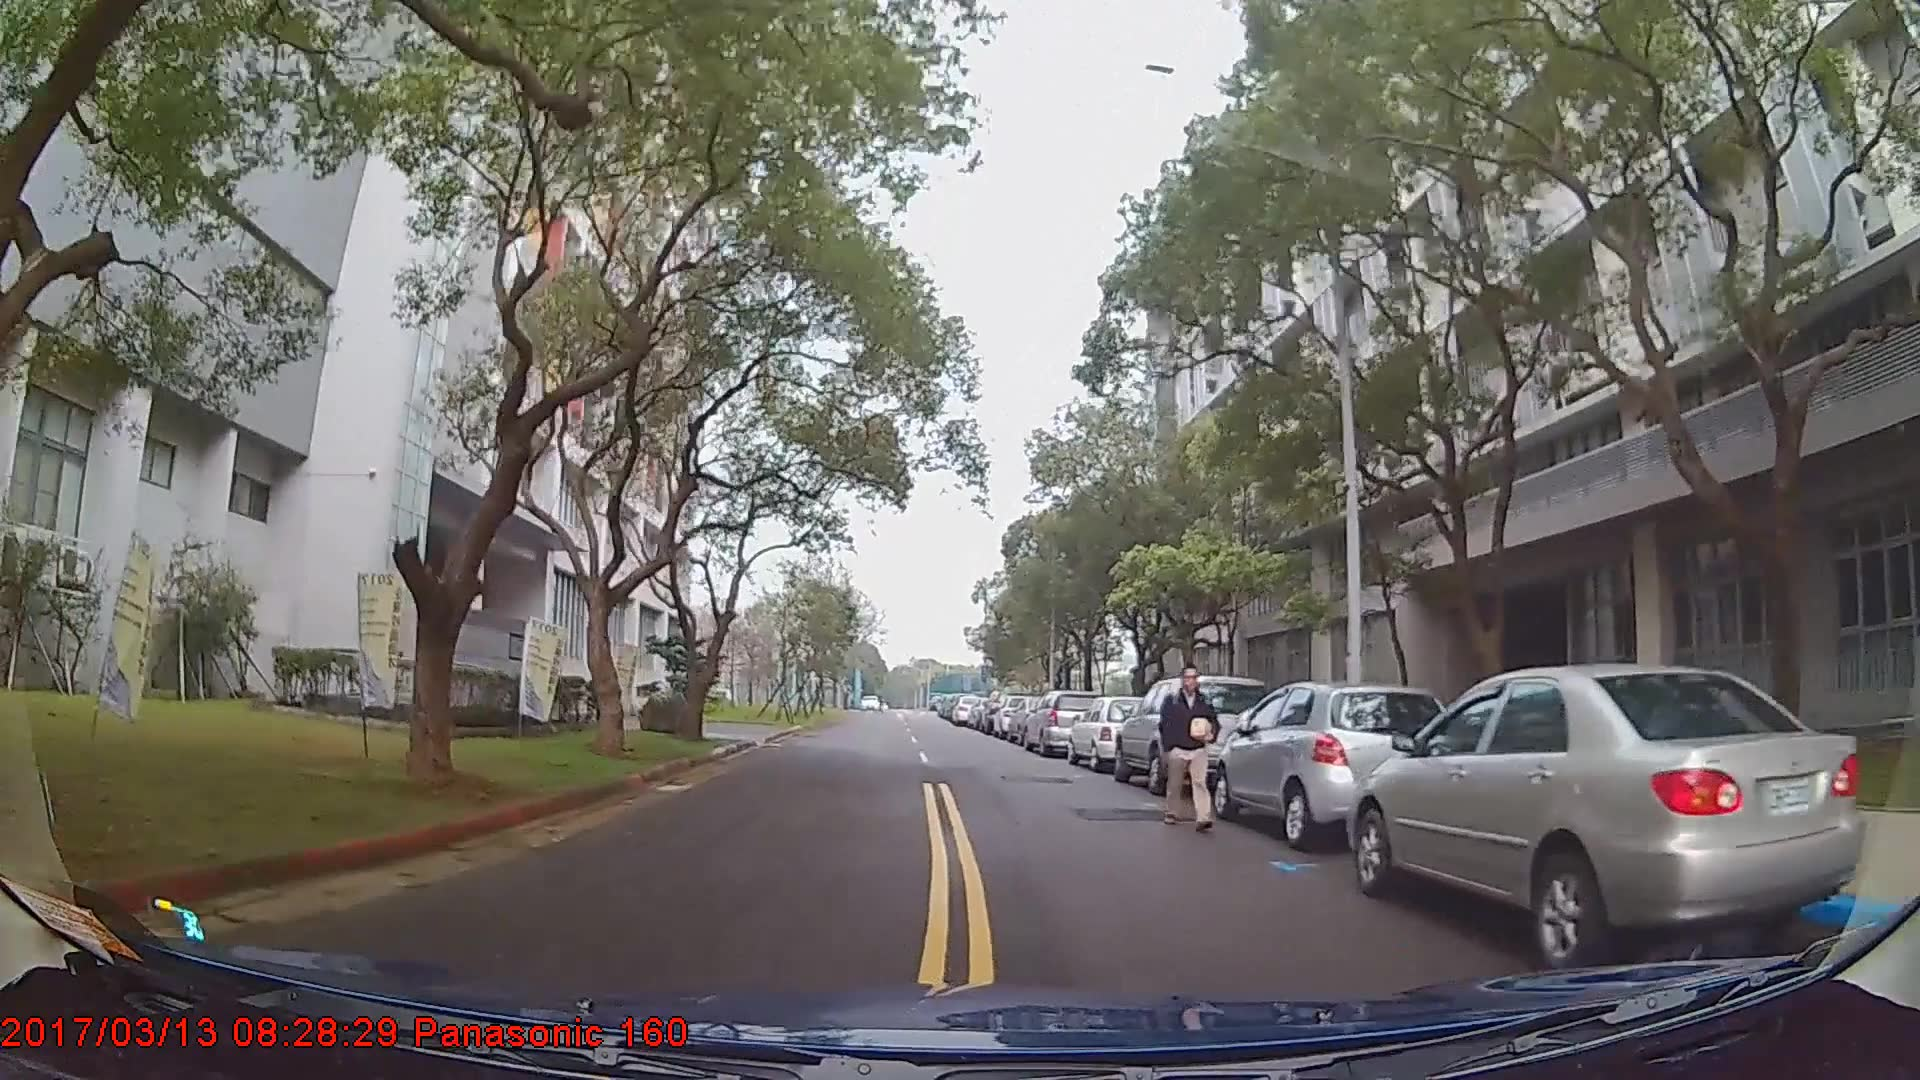pedestrian: (1162, 661, 1226, 829)
vehicle: (1344, 663, 1864, 971), (1210, 676, 1450, 847), (1114, 673, 1275, 792), (1066, 693, 1156, 772), (1022, 687, 1107, 753), (951, 693, 985, 725)
